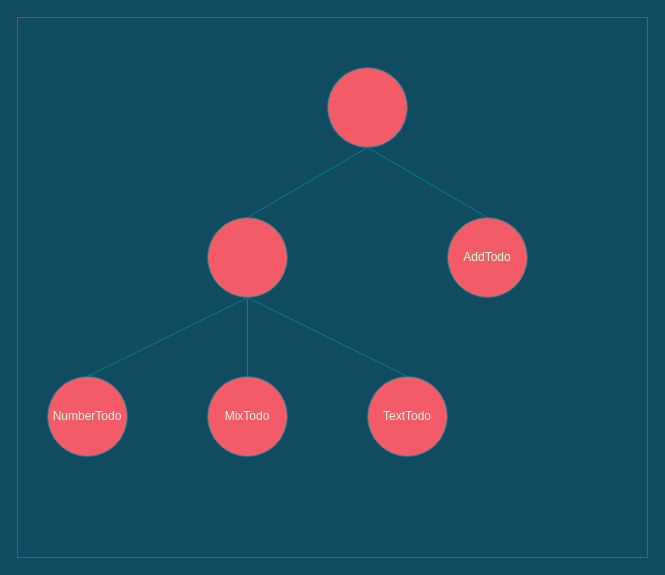
This 665x575 diagram has some shape labels left out. The shapes that lost their labels are listed below. From the top down, each one's centre as x and y in pixels, then its label:
At [367,107]: "Todos".
At [247,257]: "Todo".
